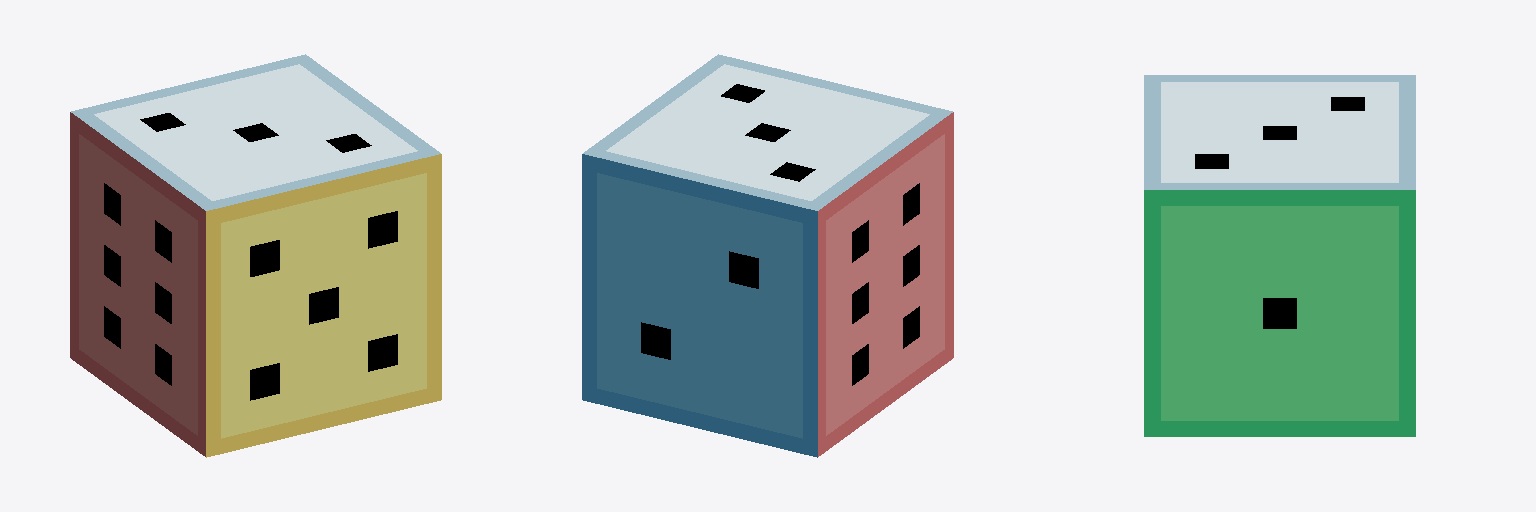
3 views of the same model, side by side, from view 1: azimuth 30°, elevation 25°; view 2: azimuth 150°, elevation 25°; view 3: azimuth 270°, elevation 25° (orthographic).
Visible parts, largest first — view 1: cube; view 2: cube; view 3: cube.
Part boxes in pixels (x1,y1,x2,y2): cube: (70, 54, 441, 457); cube: (582, 54, 953, 457); cube: (1144, 75, 1415, 436).
Size of the model in its own units: 1 by 1 by 1.
Materials: 1 (1 with a texture image).